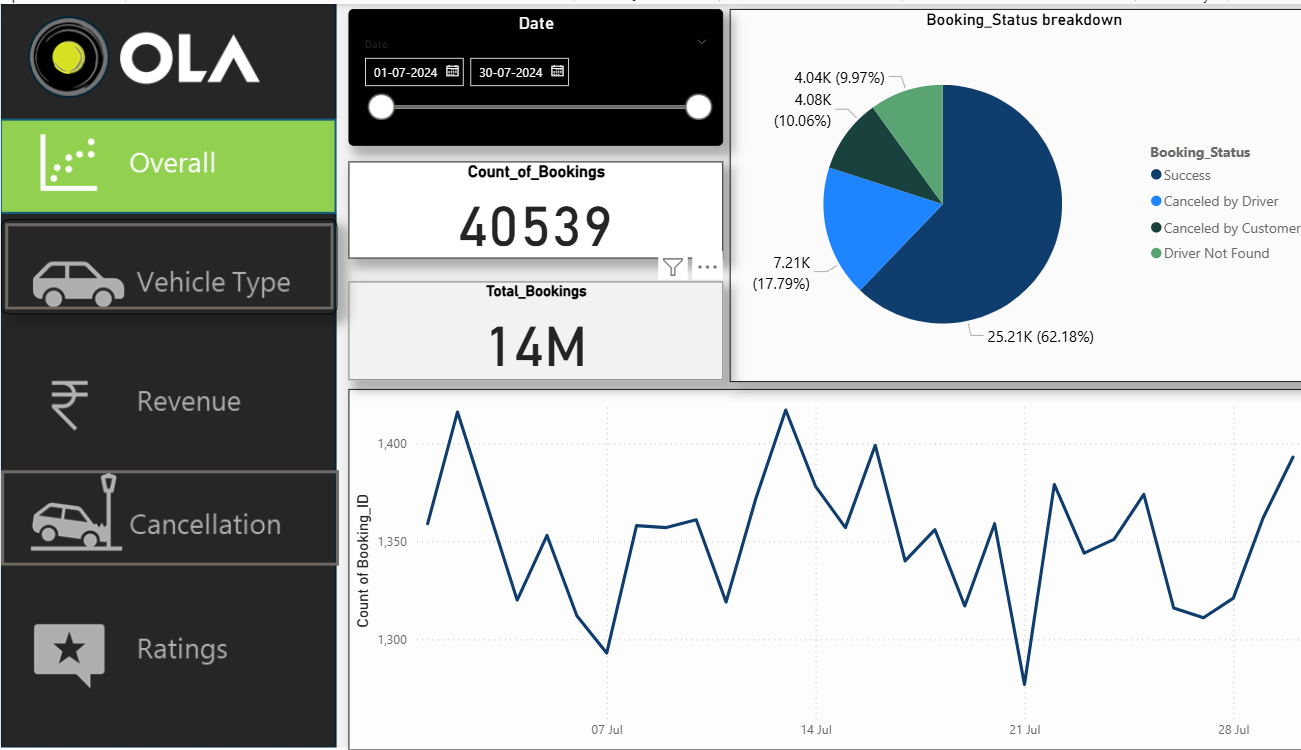

The dashboard page shown, as its layout file describes it:
{"tool":"powerbi","page":{"name":"overall","canvas":[1280,720],"ordinal":0},"visuals":[{"type":"actionButton","box":[0,450.3,325.2,91.6],"z":0},{"type":"actionButton","box":[0,570.3,325.2,91.6],"z":1000},{"type":"actionButton","box":[0,341.9,325.2,91.6],"z":2000},{"type":"actionButton","box":[0,207.7,325.2,91.6],"z":3000},{"type":"lineChart","title":"Ride valume overtime","fields":{"Y":["CountNonNull(July.Booking_ID)"],"Category":["July.Date"]},"box":[335.9,371.3,934,348.7],"z":4000},{"type":"actionButton","box":[0,450.1,326.2,92.2],"z":5000},{"type":"pieChart","title":"Booking_Status breakdown","fields":{"Category":["July.Booking_Status"],"Y":["CountNonNull(July.Booking_Status)"]},"box":[703,4.3,566.9,360],"z":6000},{"type":"slicer","title":"Date","fields":{"Values":["July.Date"]},"box":[335.9,4.3,361.4,131.8],"z":7000},{"type":"card","title":"Count_of_Bookings","fields":{"Values":["CountNonNull(July.Booking_ID)"]},"box":[335.9,151.7,361.4,93.5],"z":8000},{"type":"card","title":"Total_Bookings","fields":{"Values":["Sum(July.Booking_Value)"]},"box":[335.9,267.9,361.4,95],"z":9000}]}

Visuals, with their boxes in screenshot pixels (x1, y1, x2, y2), scaled from the page's 1280x720 canvas onto the 1301x750 screenshot:
actionButton: left=0, top=469, right=331, bottom=564
actionButton: left=0, top=594, right=331, bottom=689
actionButton: left=0, top=356, right=331, bottom=452
actionButton: left=0, top=216, right=331, bottom=312
"Ride valume overtime" lineChart: left=341, top=387, right=1291, bottom=749
actionButton: left=0, top=469, right=332, bottom=565
"Booking_Status breakdown" pieChart: left=715, top=4, right=1291, bottom=379
"Date" slicer: left=341, top=4, right=709, bottom=142
"Count_of_Bookings" card: left=341, top=158, right=709, bottom=255
"Total_Bookings" card: left=341, top=279, right=709, bottom=378
